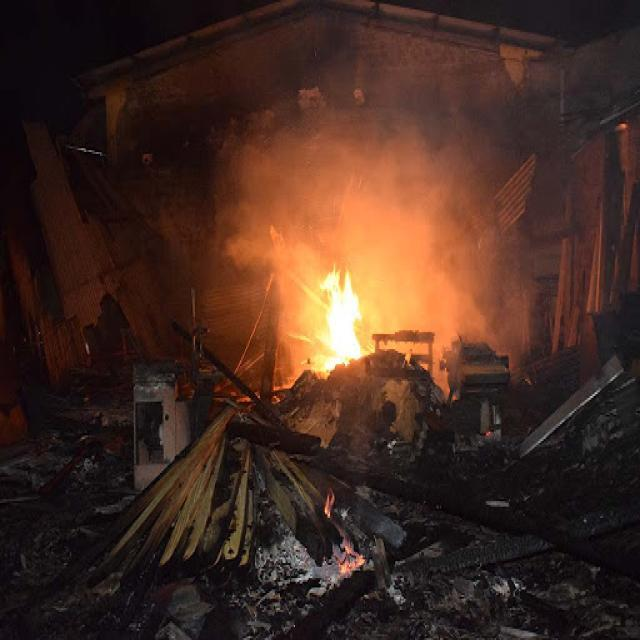Fire: (326, 290, 364, 362)
